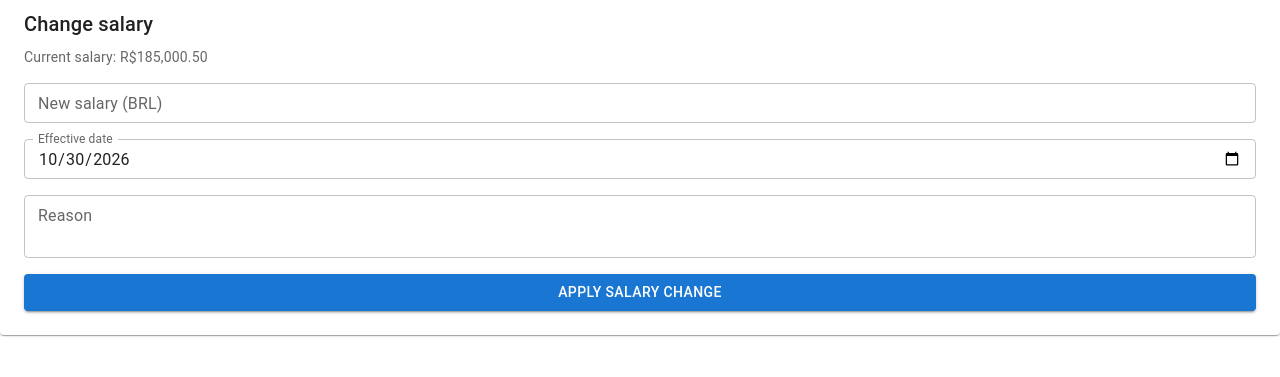
Test: SalaryChangeForm › rejects an unchanged salary client-side
Type "185000.5" into the number field labelled "New salary (BRL)" at [640, 103], box [24,83,1256,123]
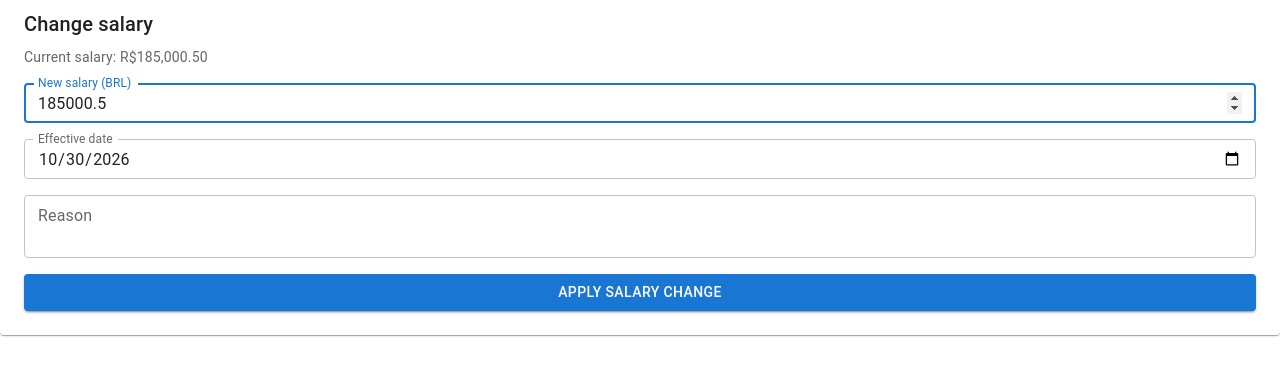
Type "No-op" into the text box labelled "Reason" at [640, 226], box [38,204,1242,250]
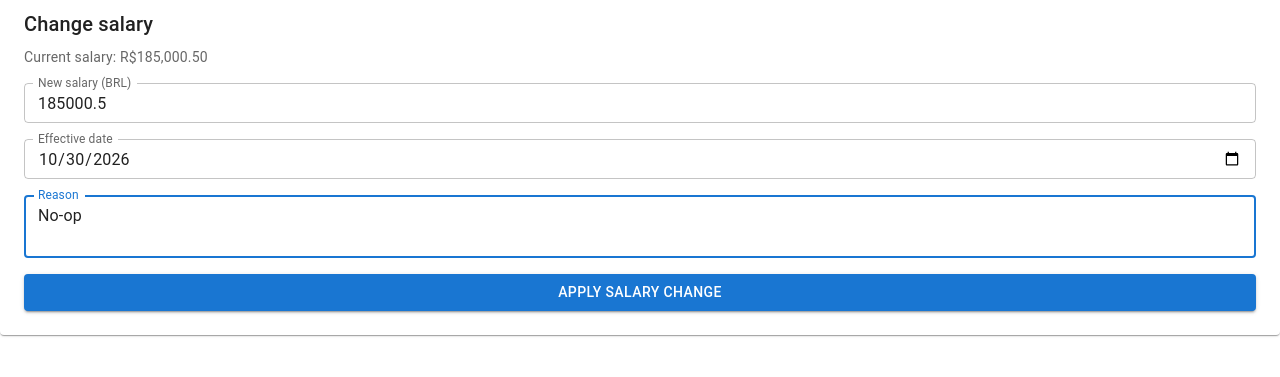
Click the button "Apply salary change" at [640, 292], box [24,274,1256,310]
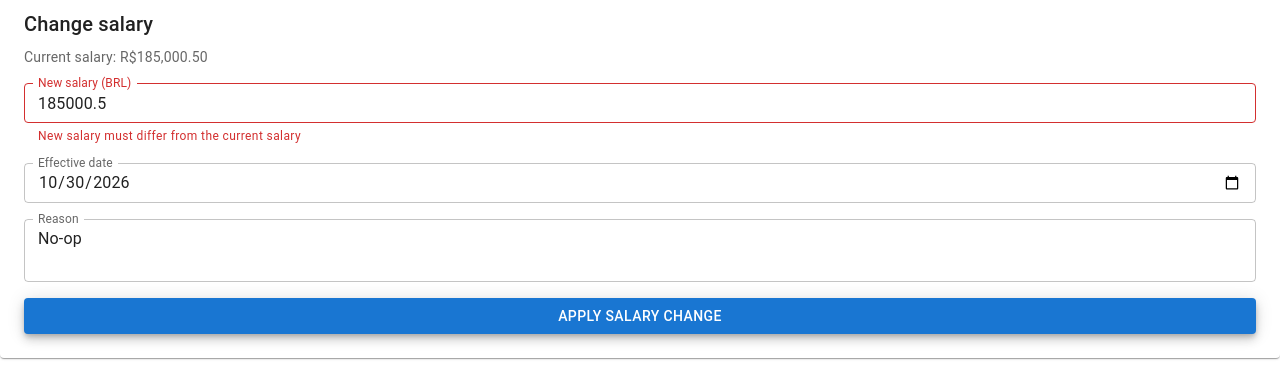
Now the text "New salary must differ from the current salary" is shown, box [38,129,301,143]
